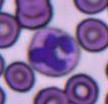N: (28, 26, 80, 76)
